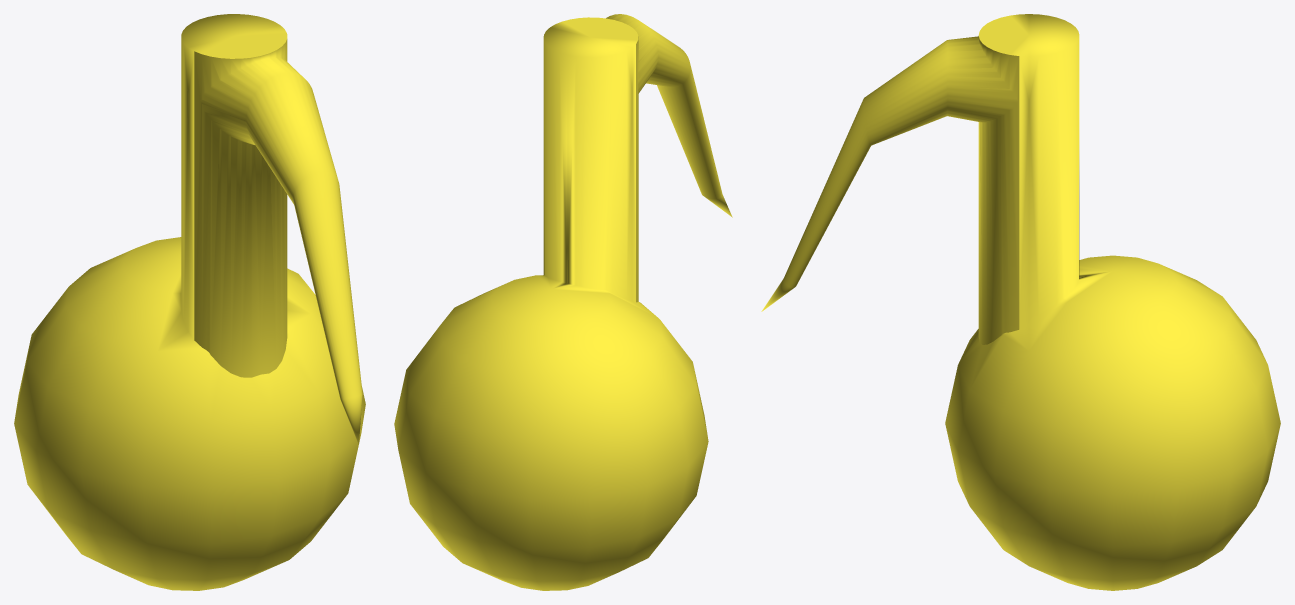
Rendered from note.obj.
3 renders of one model, left to right at view 1: azimuth 30°, elevation 25°; view 2: azimuth 150°, elevation 25°; view 3: azimuth 270°, elevation 25°, orthographic. The views are drawn at different scales.
Parts seen in each view (by area): view 1: 球; view 2: 球; view 3: 球.
Boxes of the visible parts, x1,y1,x2,y2 form: 球: (14,14,365,590); 球: (394,14,732,590); 球: (761,14,1280,590).
Size of the model in its own units: 2 by 3.55 by 3.1.
